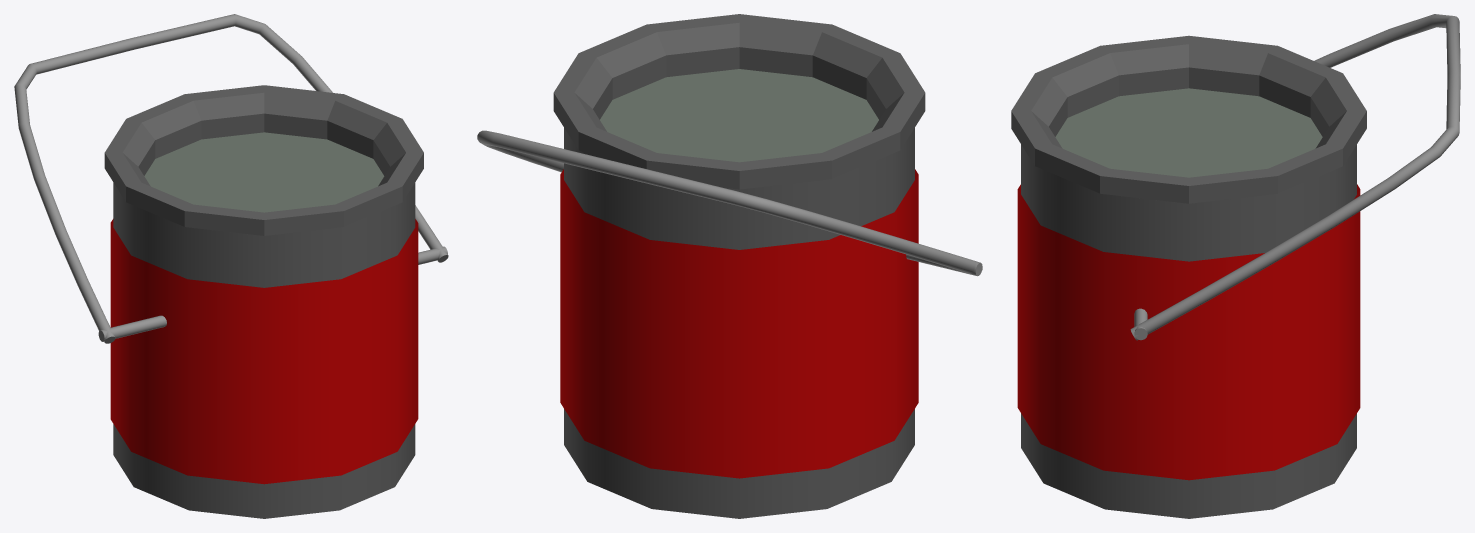
Rendered from SM_paint_bucket_03.fbx.
3 renders of one model, left to right at view 1: azimuth 30°, elevation 25°; view 2: azimuth 150°, elevation 25°; view 3: azimuth 270°, elevation 25°, orthographic. The views are drawn at different scales.
Visible parts, largest first — view 1: paint_bucket_03; view 2: paint_bucket_03; view 3: paint_bucket_03.
Part boxes in pixels (<box>): paint_bucket_03: <box>14,14,448,518</box>; paint_bucket_03: <box>477,14,982,518</box>; paint_bucket_03: <box>1011,14,1460,518</box>.
Bounding box in the file's own units: 42.11 × 38.93 × 42.81.
